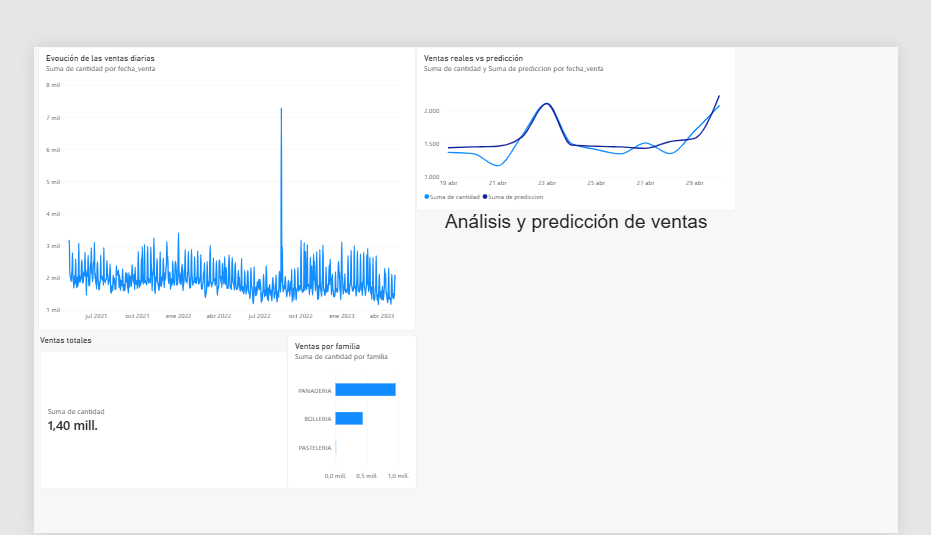

Layout of this report page (visuals, bound fields, positions):
{"tool":"powerbi","page":{"name":"Graficos","canvas":[1920,1080],"ordinal":0},"visuals":[{"type":"lineChart","title":"Evoución de las ventas diarias","fields":{"Category":["powerbi_ventas.fecha_venta"],"Y":["Sum(powerbi_ventas.cantidad)"]},"box":[0,0,837.5,629.5],"z":0},{"type":"cardVisual","title":"Ventas totales","fields":{"Data":["Sum(powerbi_ventas.cantidad)"]},"box":[12,640,550,342],"z":1000},{"type":"barChart","title":"Ventas por familia","fields":{"Category":["powerbi_ventas.familia"],"Y":["Sum(powerbi_ventas.cantidad)"]},"box":[1533.3,630,287,342],"z":1001},{"type":"lineChart","title":"Ventas reales vs predicción","fields":{"Category":["powerbi_predicciones.fecha_venta"],"Y":["Sum(powerbi_predicciones.cantidad)","Sum(powerbi_predicciones.prediccion)"]},"box":[756.7,630,710,364.3],"z":1002},{"type":"textbox","box":[850,363.3,646.7,56.7],"z":1003}]}

Visuals, with their boxes in screenshot pixels (x1, y1, x2, y2), scaled from the page's 1920x1080 canvas onto the 931x535 screenshot:
"Evoución de las ventas diarias" lineChart: x1=0 y1=0 x2=406 y2=312
"Ventas totales" cardVisual: x1=6 y1=317 x2=273 y2=486
"Ventas por familia" barChart: x1=743 y1=312 x2=883 y2=482
"Ventas reales vs predicción" lineChart: x1=367 y1=312 x2=711 y2=493
textbox: x1=412 y1=180 x2=726 y2=208
